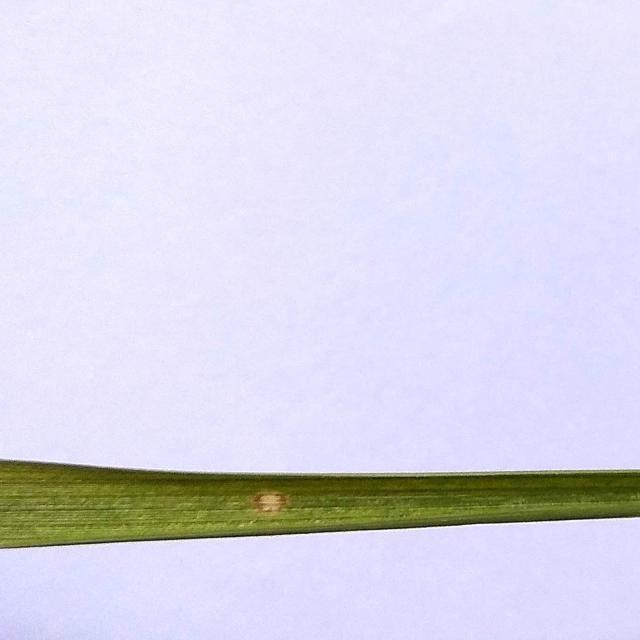Leaf_Blast: (248, 480, 299, 525)
